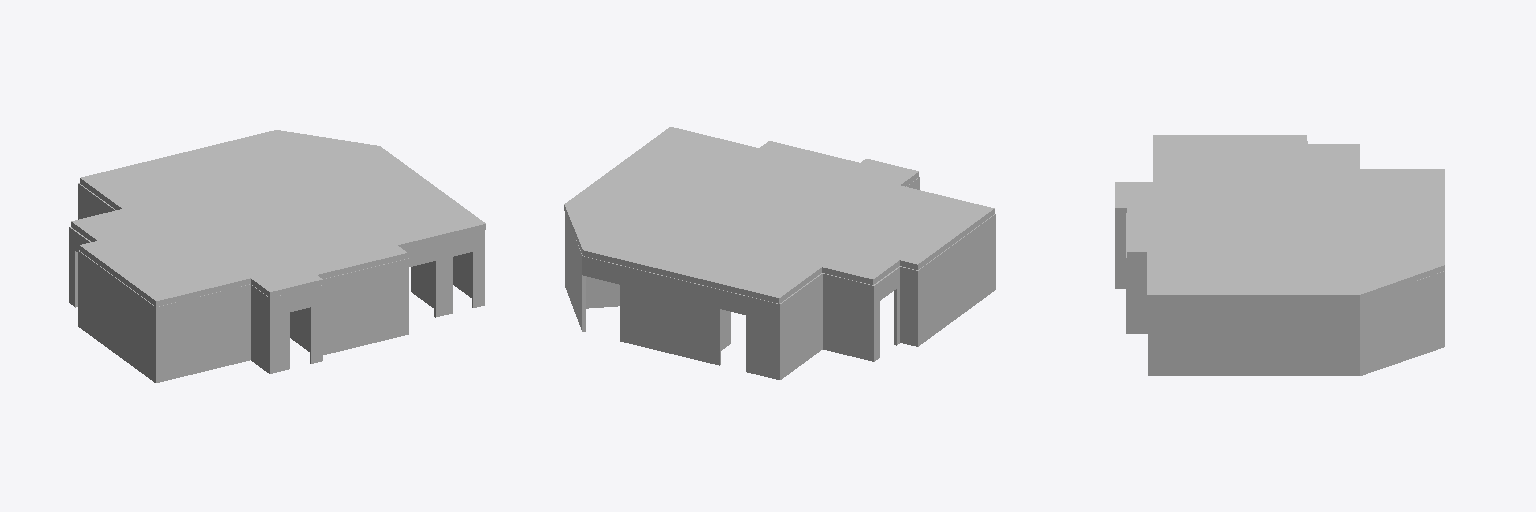
File: map.obj
3 views of the same model, side by side, from view 1: azimuth 30°, elevation 25°; view 2: azimuth 150°, elevation 25°; view 3: azimuth 270°, elevation 25° (orthographic).
Visible parts, largest first — view 1: Plane, Cube; view 2: Plane, Cube; view 3: Plane, Cube.
Boxes of the visible parts, x1=… form: Plane: x1=71, y1=130, x2=485, y2=306; Cube: x1=69, y1=183, x2=484, y2=382; Plane: x1=564, y1=127, x2=994, y2=303; Cube: x1=565, y1=177, x2=995, y2=379; Plane: x1=1115, y1=135, x2=1444, y2=300; Cube: x1=1115, y1=141, x2=1444, y2=375.
Bounding box in the file's own units: 28.78 × 6.86 × 25.14.